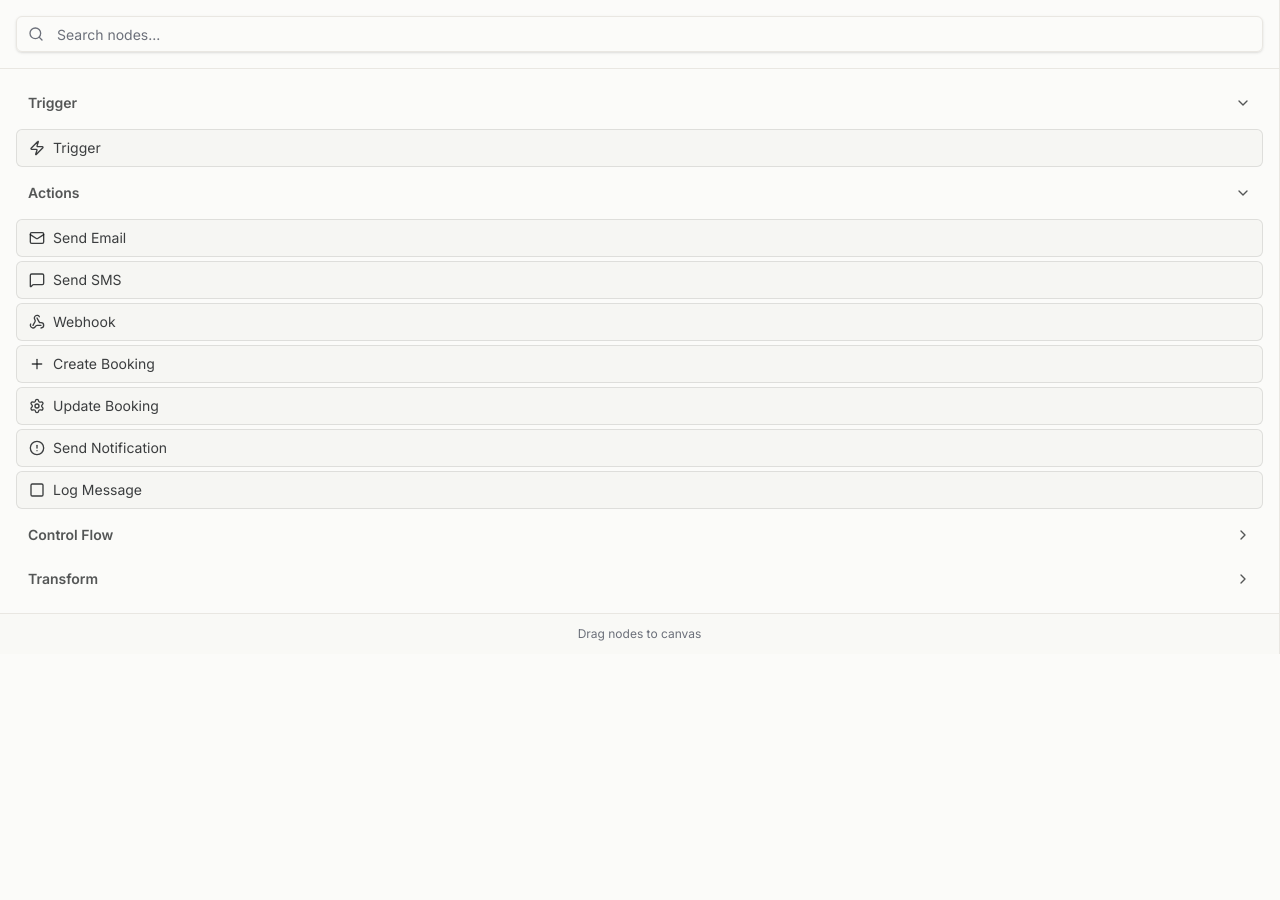
Test: NodePalette › filters by description
The image size is (1280, 900).
Search for 'webhook' which appears in the webhook action description
Type "webhook" into the field with placeholder "Search nodes..." at (640, 34), box x1=16 y1=16 x2=1263 y2=52
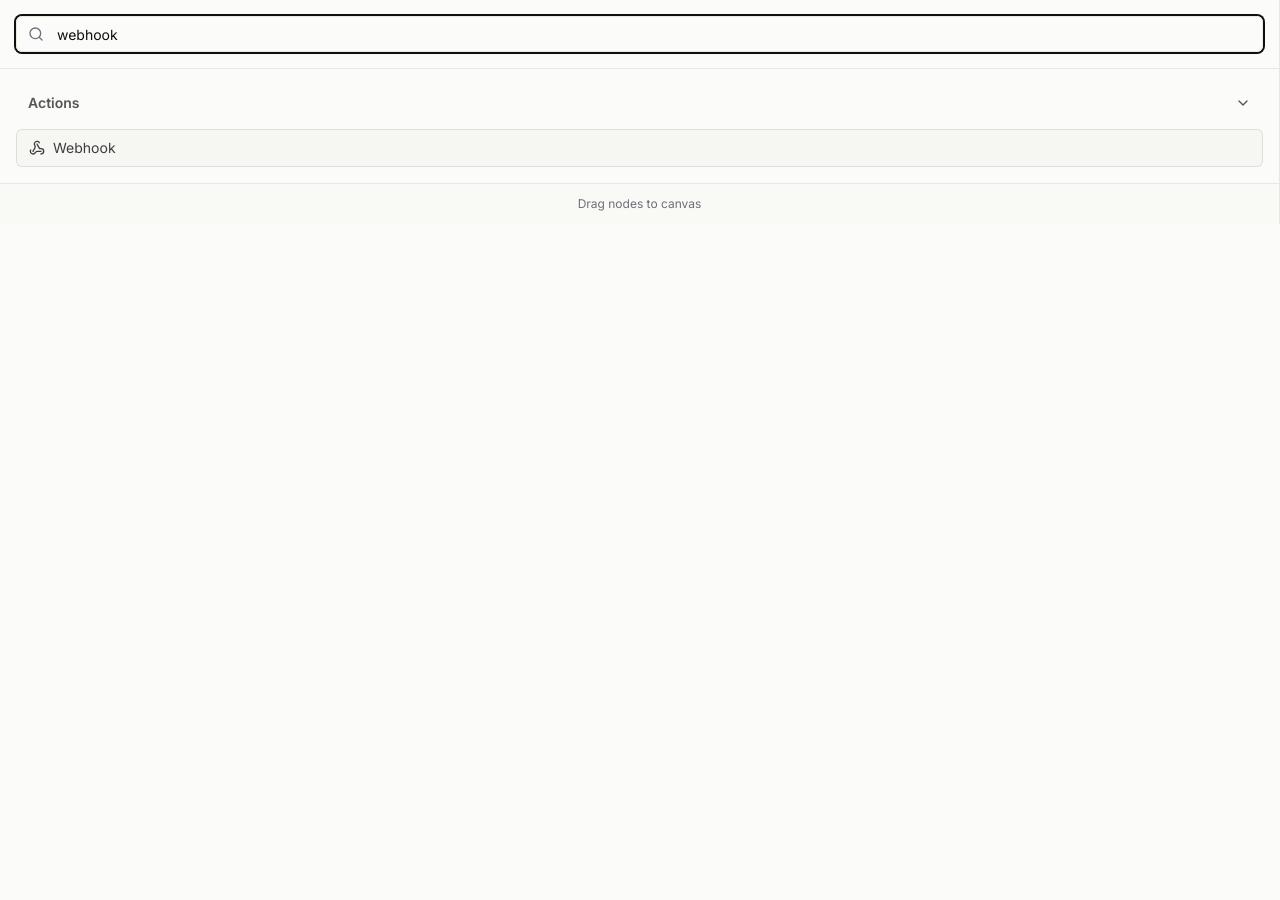
Expected: the text "Webhook" is shown, x1=53 y1=139 x2=116 y2=156
Result: the text "Send Email" is gone
